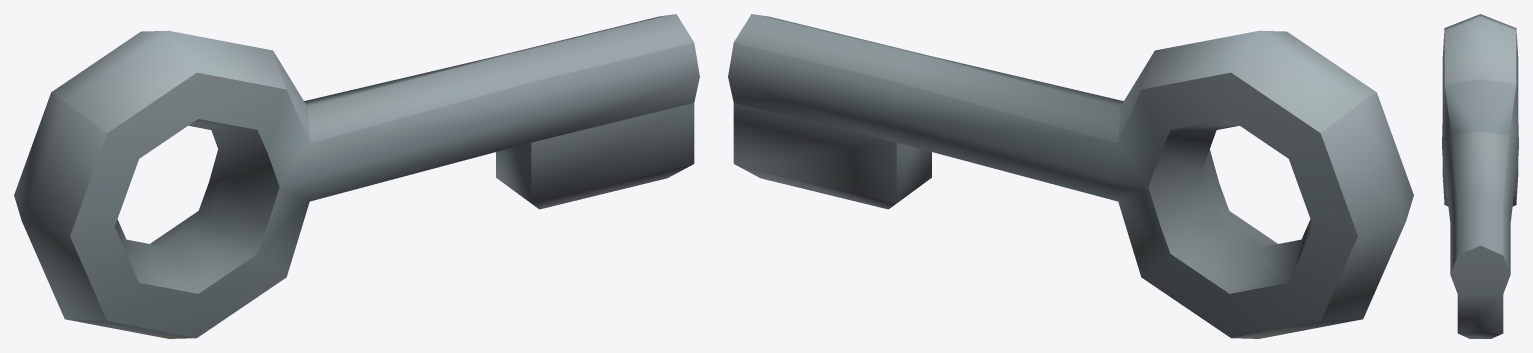
Rendered from key.glb.
3 views of the same model, side by side, from view 1: azimuth 30°, elevation 25°; view 2: azimuth 150°, elevation 25°; view 3: azimuth 270°, elevation 25° (orthographic). The views are drawn at different scales.
Parts seen in each view (by area): view 1: key; view 2: key; view 3: key.
Part boxes in pixels (x1=…): key: x1=14, y1=14, x2=699, y2=338; key: x1=728, y1=14, x2=1413, y2=338; key: x1=1442, y1=14, x2=1518, y2=338.
Bounding box in the file's own units: 0.8957 × 0.4028 × 0.1418.
1 material, 1 textured.
